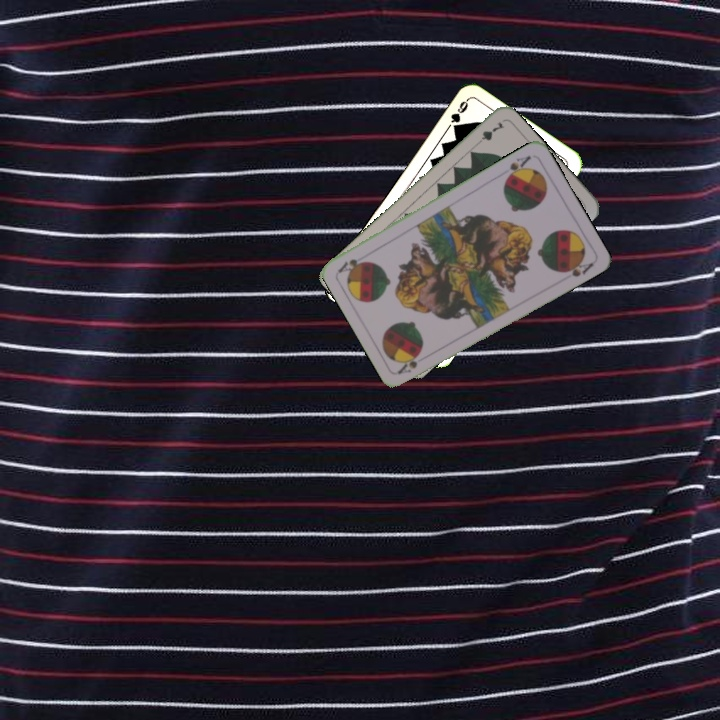G7: (471, 117, 507, 149)
G9: (447, 96, 471, 133)
SA: (501, 151, 534, 183), (394, 350, 423, 376)
